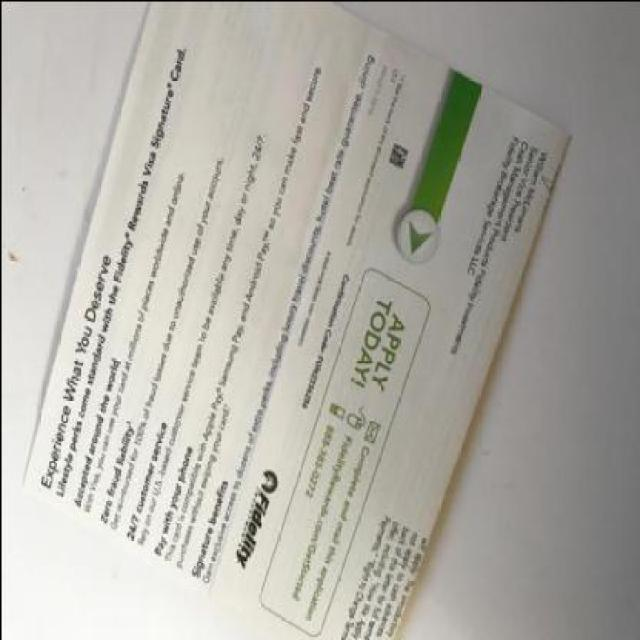PAPER: (18, 1, 570, 638)
